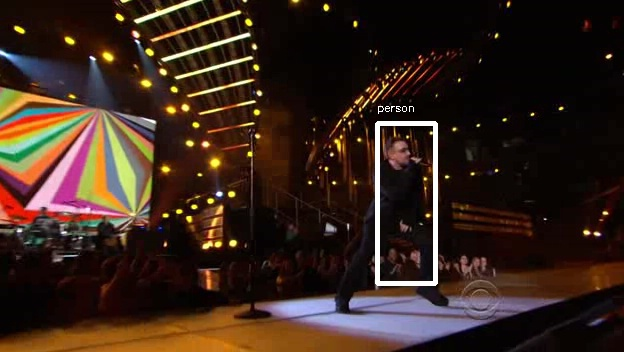person: (364, 137, 435, 264), (361, 137, 432, 264), (367, 137, 438, 264), (364, 134, 435, 261), (364, 140, 435, 267)
target_negative: (26, 165, 139, 341), (405, 83, 605, 116), (450, 157, 503, 238), (55, 86, 68, 181), (212, 338, 436, 340), (541, 344, 620, 348)
